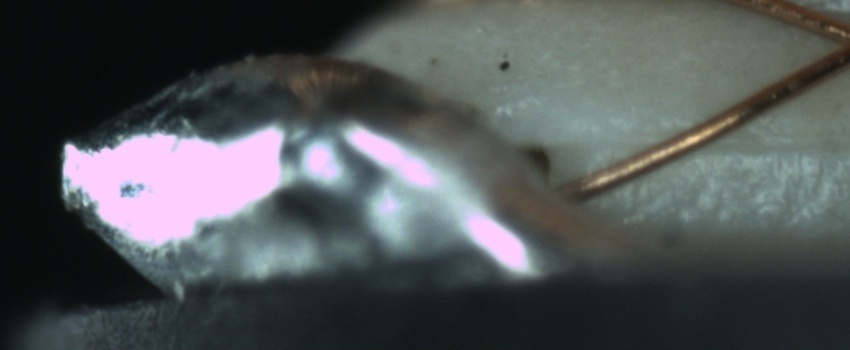CL: (805, 9, 850, 79)
DL: (613, 106, 845, 177)
